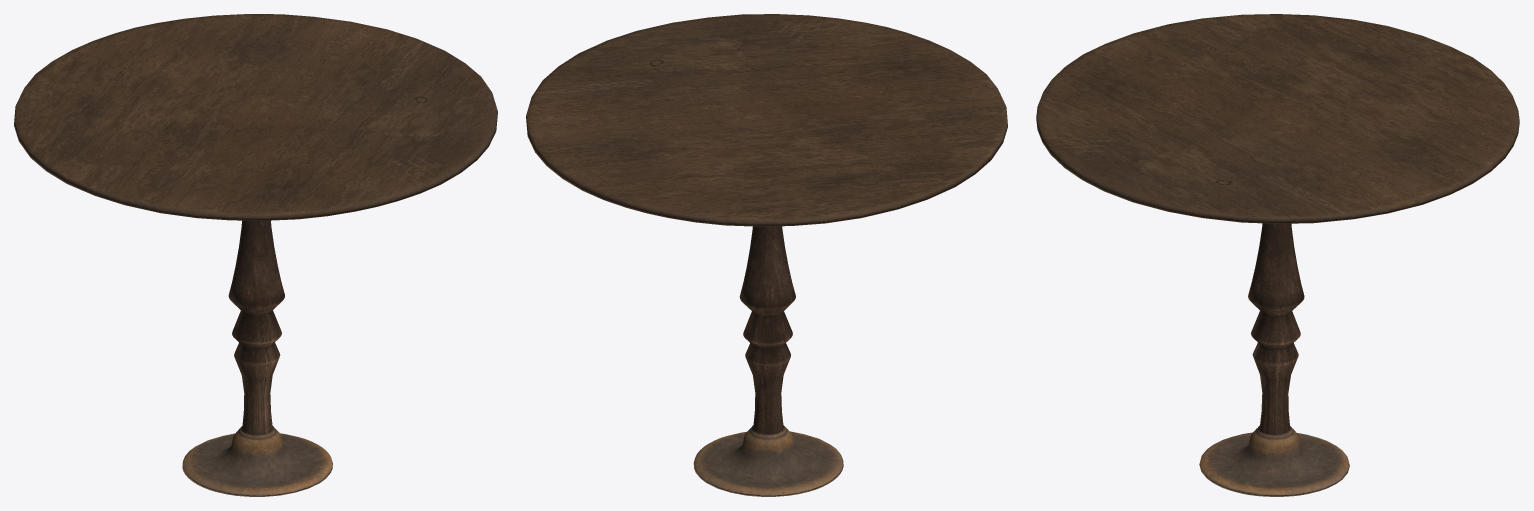
File: roundtable.glb
3 views of the same model, side by side, from view 1: azimuth 30°, elevation 25°; view 2: azimuth 150°, elevation 25°; view 3: azimuth 270°, elevation 25° (orthographic).
Parts seen in each view (by area): view 1: roundtable; view 2: roundtable; view 3: roundtable.
Part boxes in pixels (x1,y1,x2,y2): roundtable: [14, 14, 497, 496]; roundtable: [526, 14, 1007, 496]; roundtable: [1036, 14, 1519, 496].
Size of the model in its own units: 1.96 by 1.57 by 1.96.
1 material, 1 textured.
